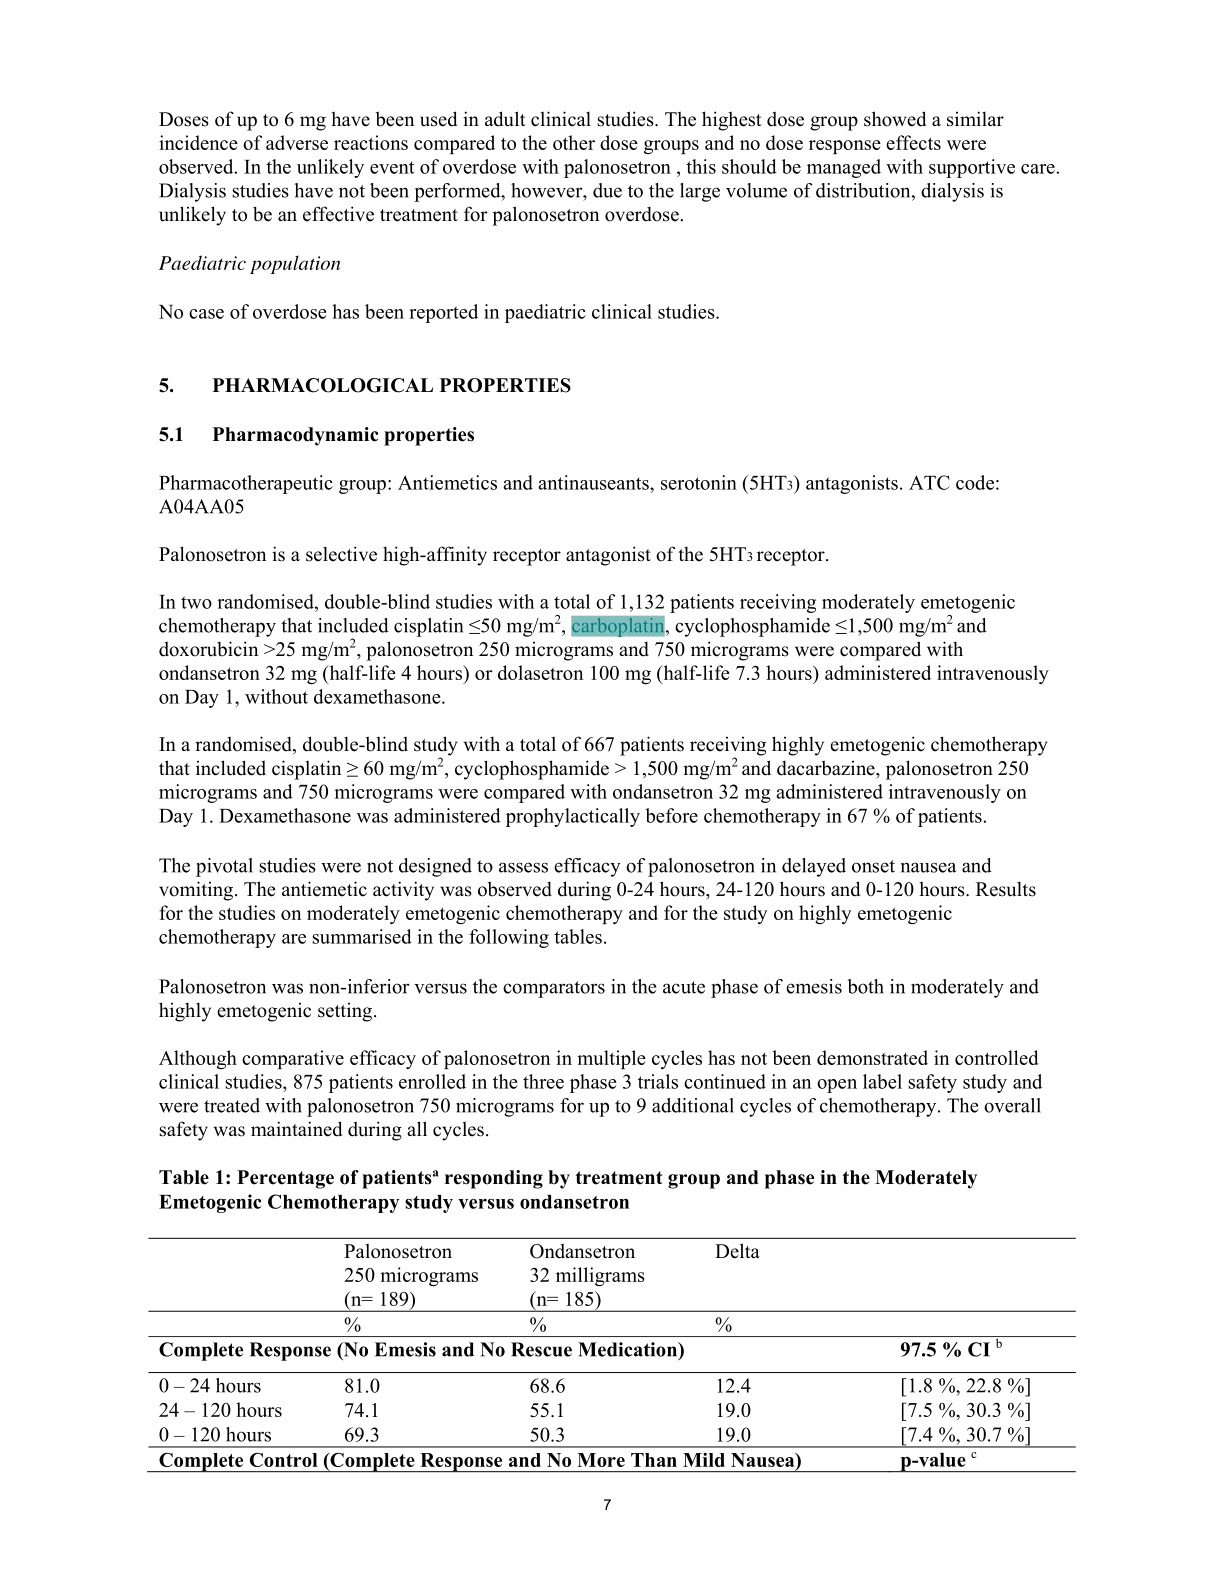partial_lined_merged_cells: (147, 1237, 1077, 1475)
